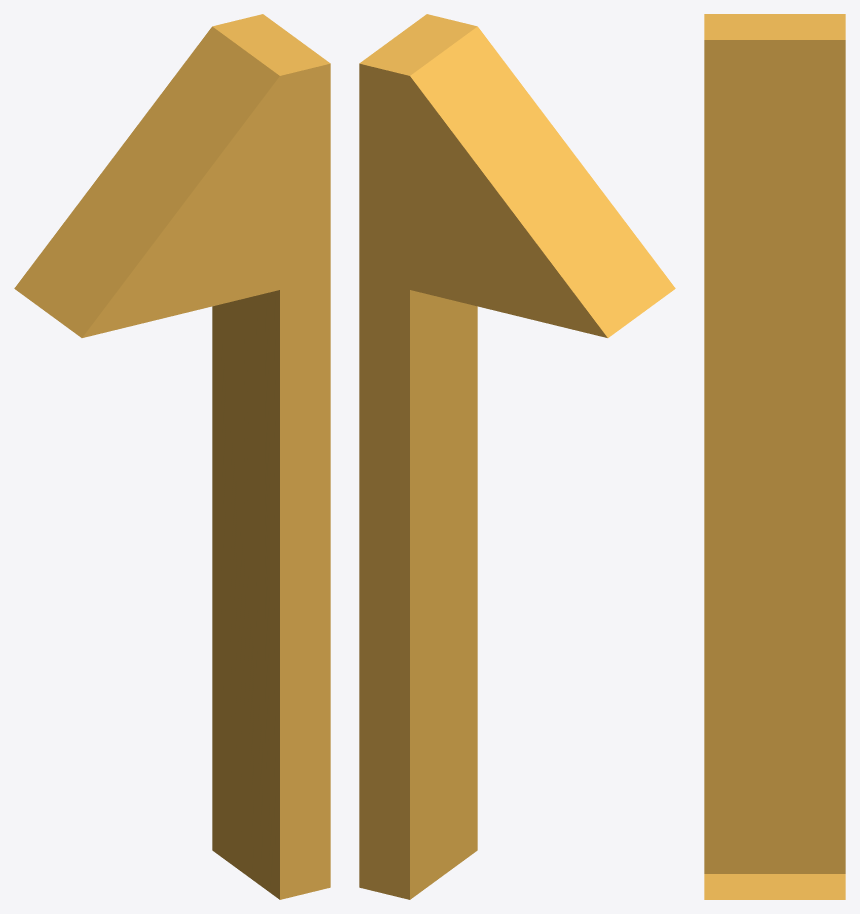
The model's file is flecha.glb.
3 views of the same model, side by side, from view 1: azimuth 30°, elevation 25°; view 2: azimuth 150°, elevation 25°; view 3: azimuth 270°, elevation 25° (orthographic). The views are drawn at different scales.
Visible parts, largest first — view 1: Cubo; view 2: Cubo; view 3: Cubo.
Part boxes in pixels (x1=…): Cubo: x1=14, y1=14, x2=330, y2=899; Cubo: x1=359, y1=14, x2=675, y2=899; Cubo: x1=704, y1=14, x2=845, y2=899.
Bounding box in the file's own units: 0.8539 × 2.7 × 0.4026.
